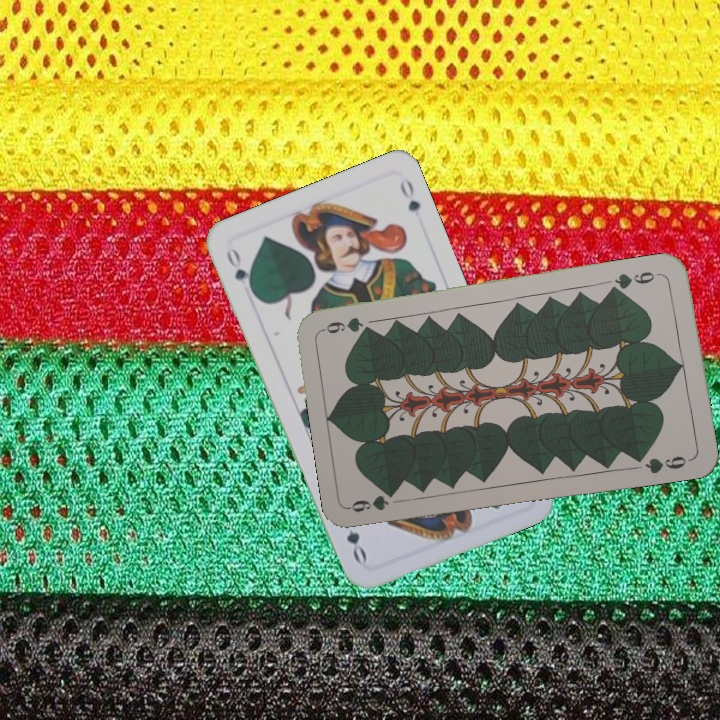G9: (607, 267, 665, 294), (347, 488, 398, 515)
GO: (222, 244, 257, 297)
